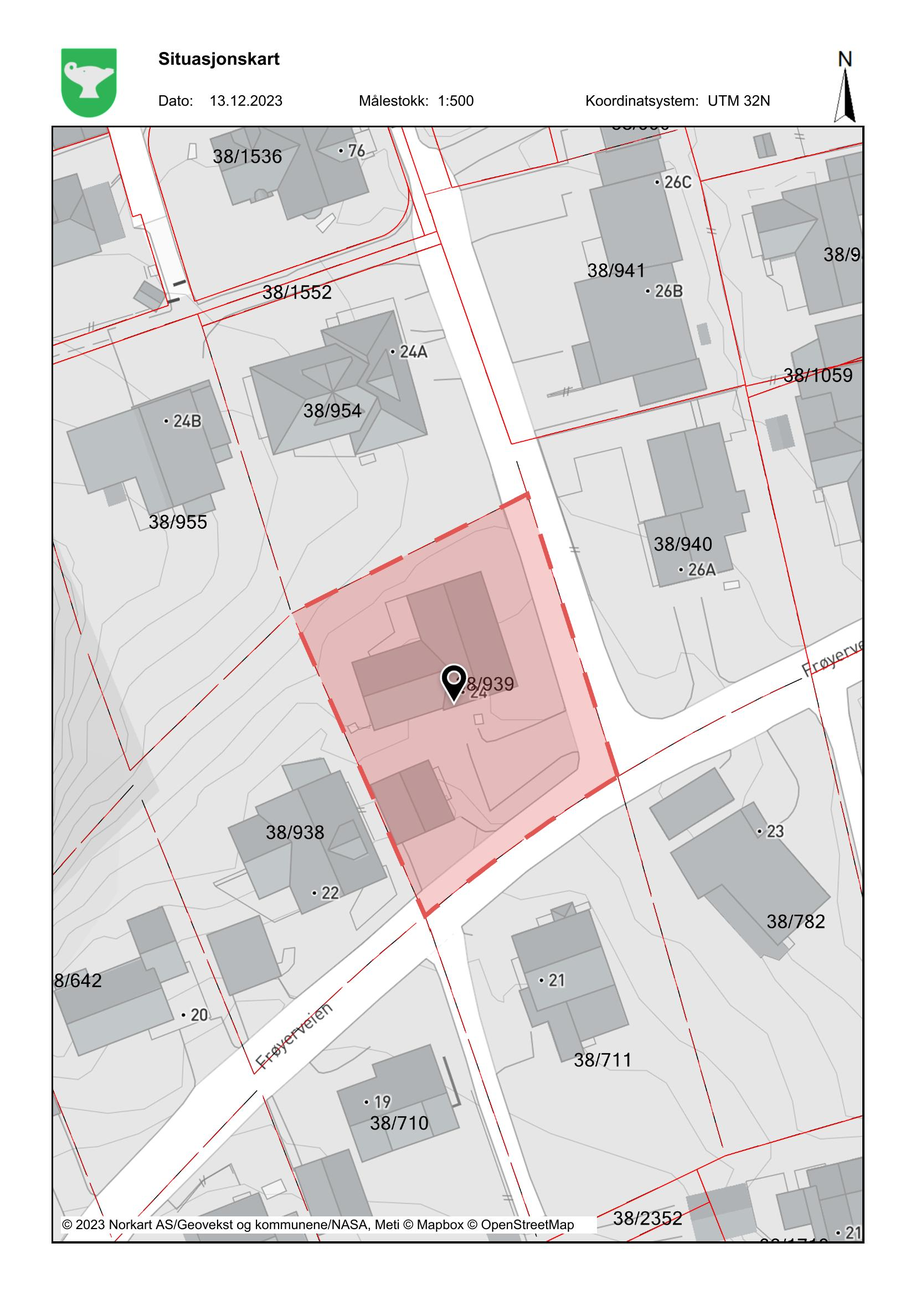situasjonskart: (49, 122, 867, 1244)
